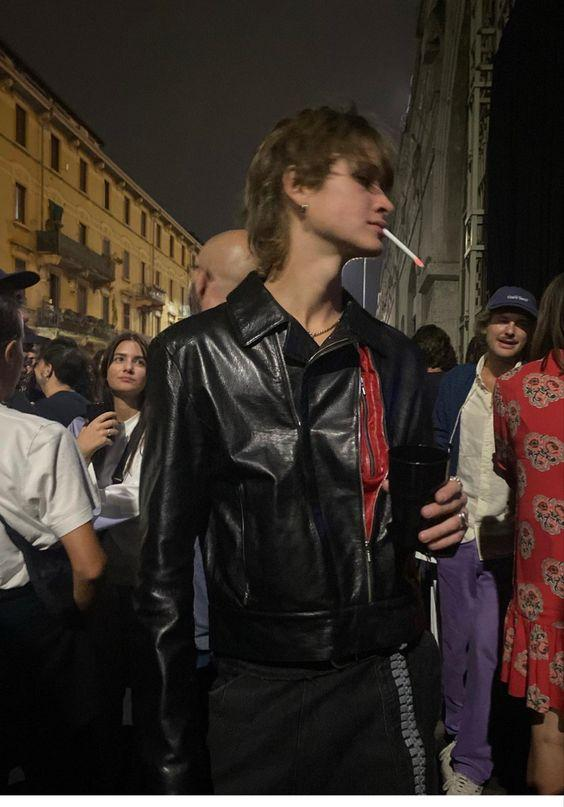cigarette: (382, 227, 424, 268)
